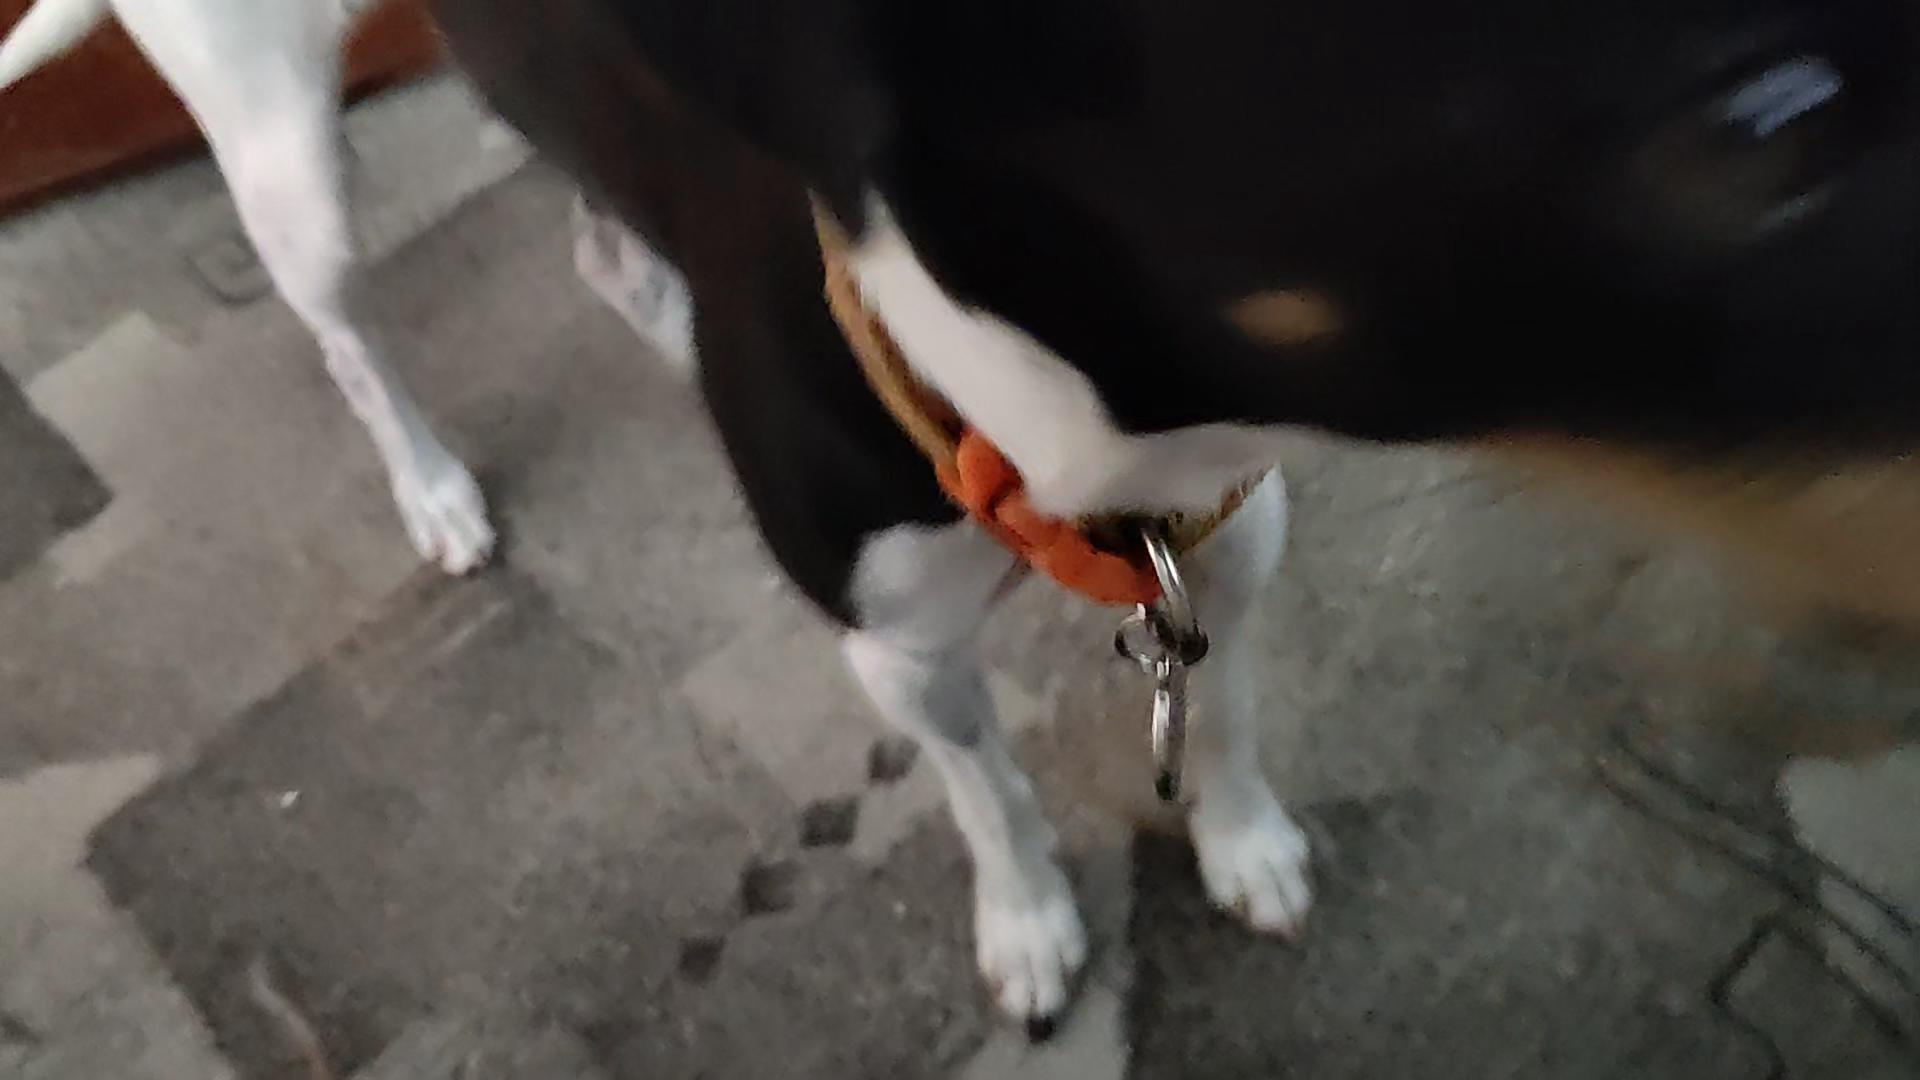Dog: (0, 0, 1919, 1044)
